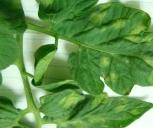Tomato mold leaf: (51, 0, 153, 95), (50, 90, 153, 128)
